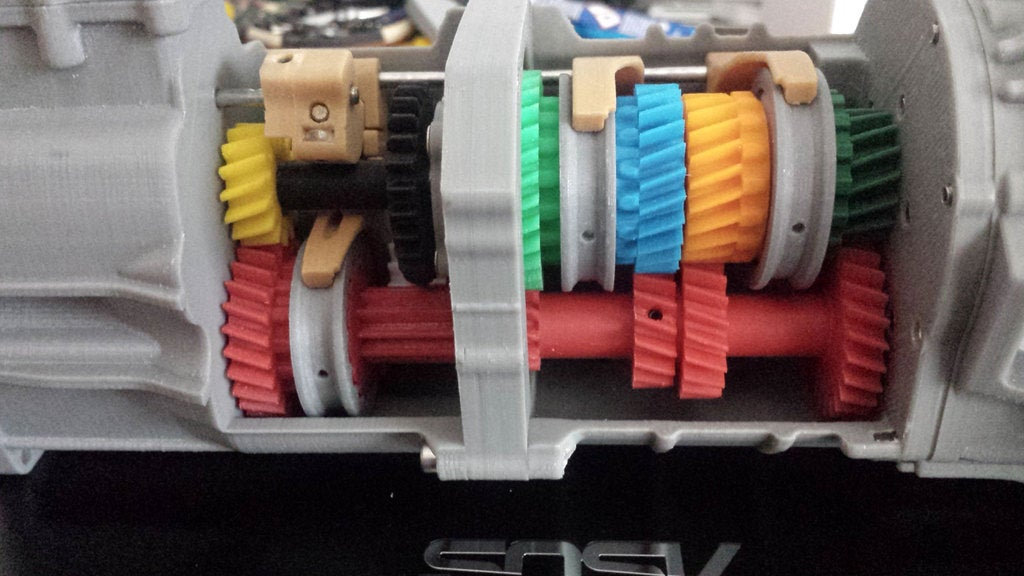Good: (111, 8, 931, 449)
